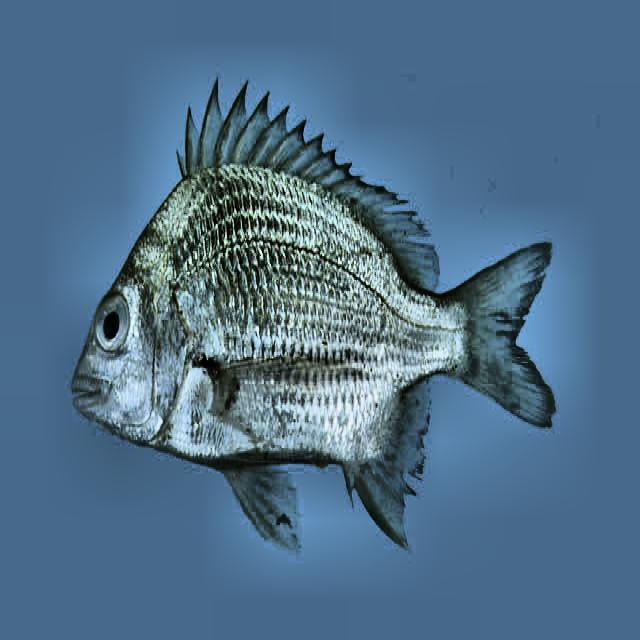fish: (74, 75, 553, 558)
